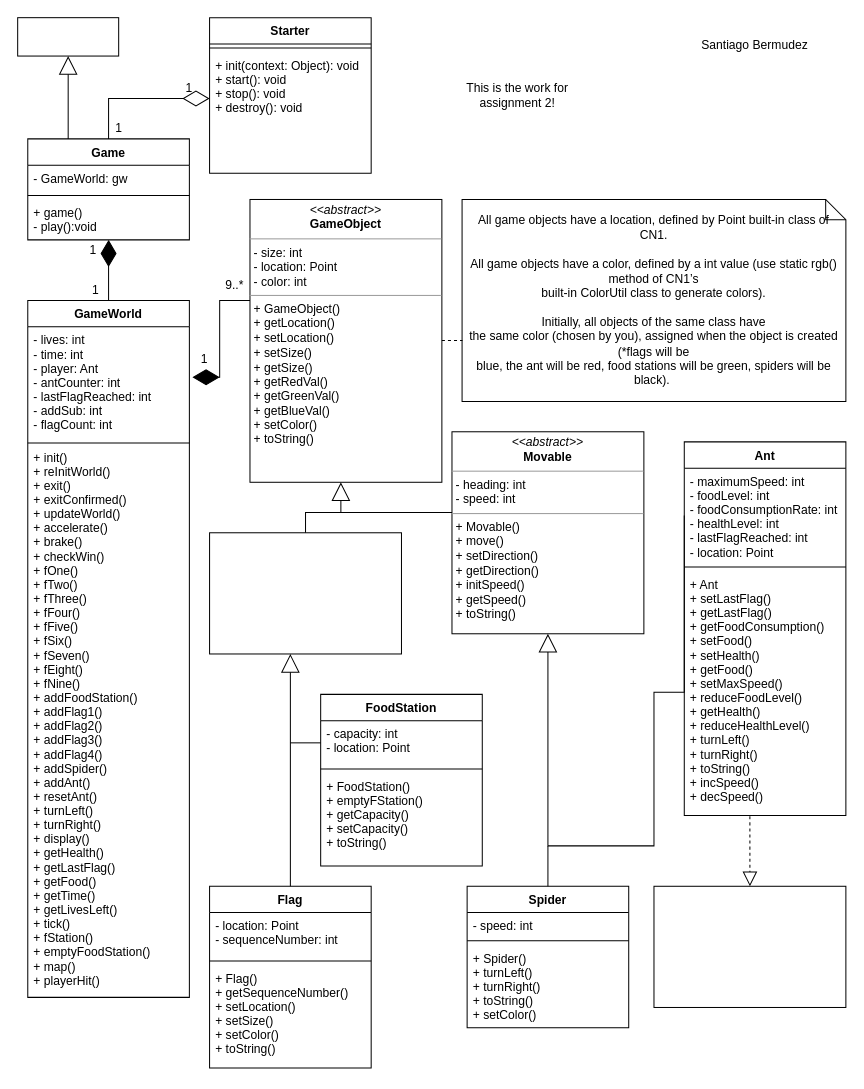
The diagram is 864 pixels wide and 1089 high, and some of its shapes have lost their labels. The centre of each missing label's shape, as x and y in pixels:
"<<abstract>> Fixed + Fixed() + move() + toString()" belongs at (x=305, y=593).
"<<Interface>> ISteerable + turnLeft() + turnRight()" belongs at (x=749, y=946).
"Form" belongs at (x=68, y=36).
